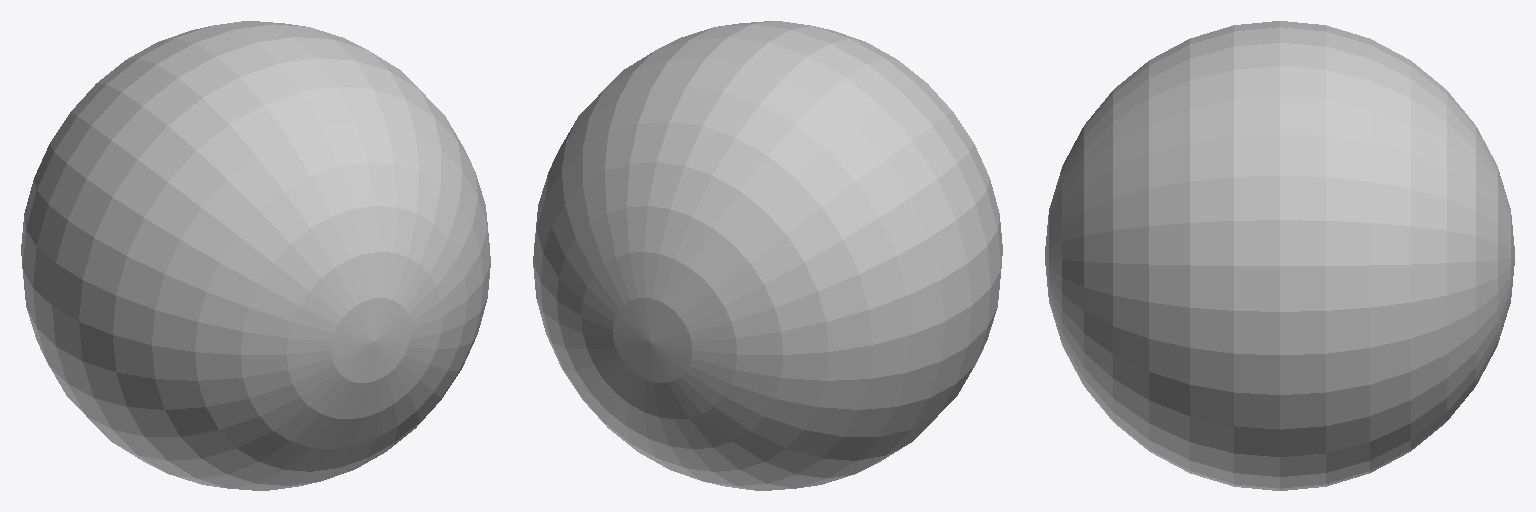
The model's file is SkySphere.obj.
The picture shows the model from 3 angles: view 1: azimuth 30°, elevation 25°; view 2: azimuth 150°, elevation 25°; view 3: azimuth 270°, elevation 25°; orthographic projection.
Parts seen in each view (by area): view 1: Sphere; view 2: Sphere; view 3: Sphere.
Part boxes in pixels (x1,y1,x2,y2): Sphere: (21,21,490,490); Sphere: (533,21,1002,490); Sphere: (1045,21,1514,490).
Bounding box in the file's own units: 20 × 20 × 20.